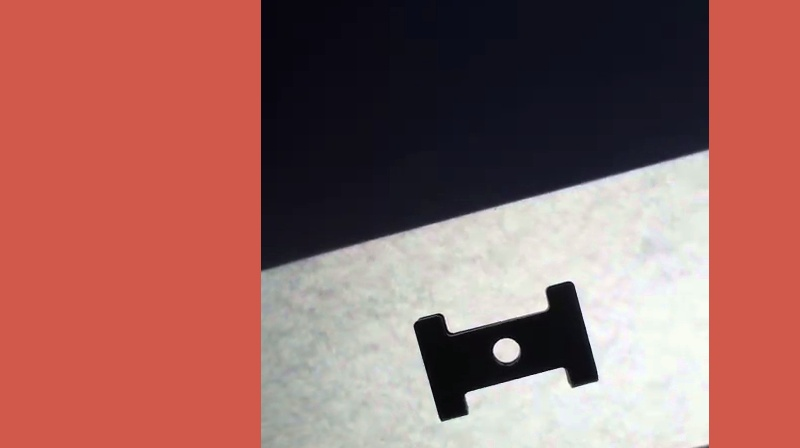O002: (411, 275, 601, 428)
